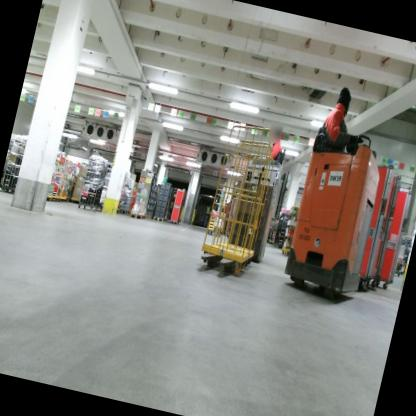pallet: (130, 211, 147, 222), (152, 215, 166, 225), (122, 208, 131, 216), (144, 213, 149, 221), (148, 213, 153, 220)
pallet_truck: (265, 112, 401, 311), (192, 132, 290, 281)
